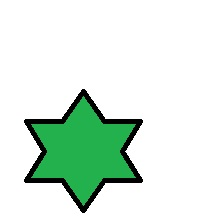star: (23, 88, 143, 214)
